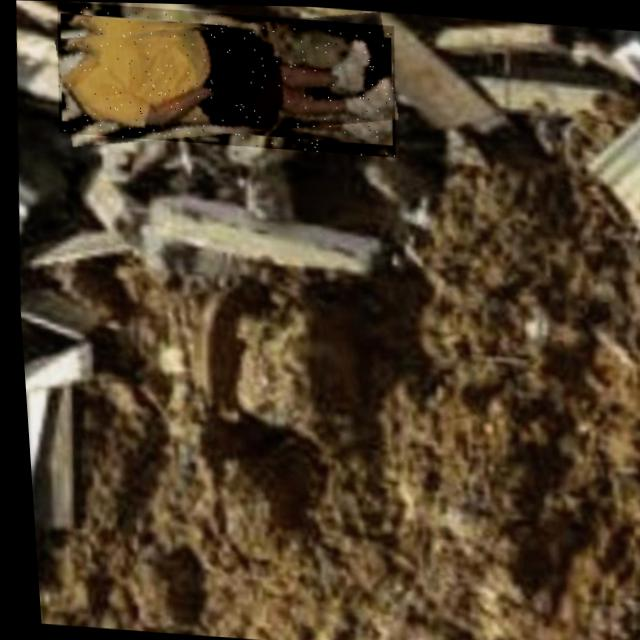Person in Rubble: (51, 1, 401, 155)
